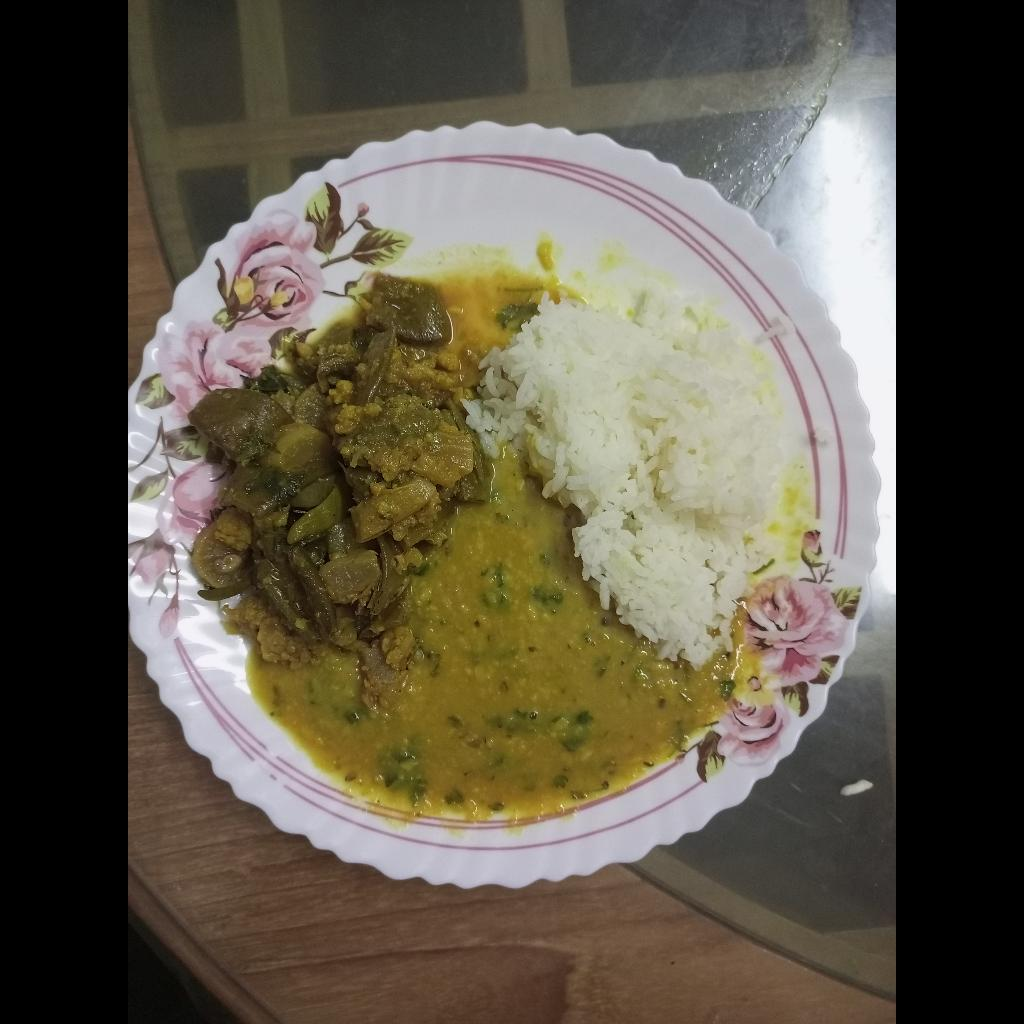daal: (248, 446, 746, 818)
rice: (467, 287, 777, 666)
shim: (190, 265, 495, 710)
